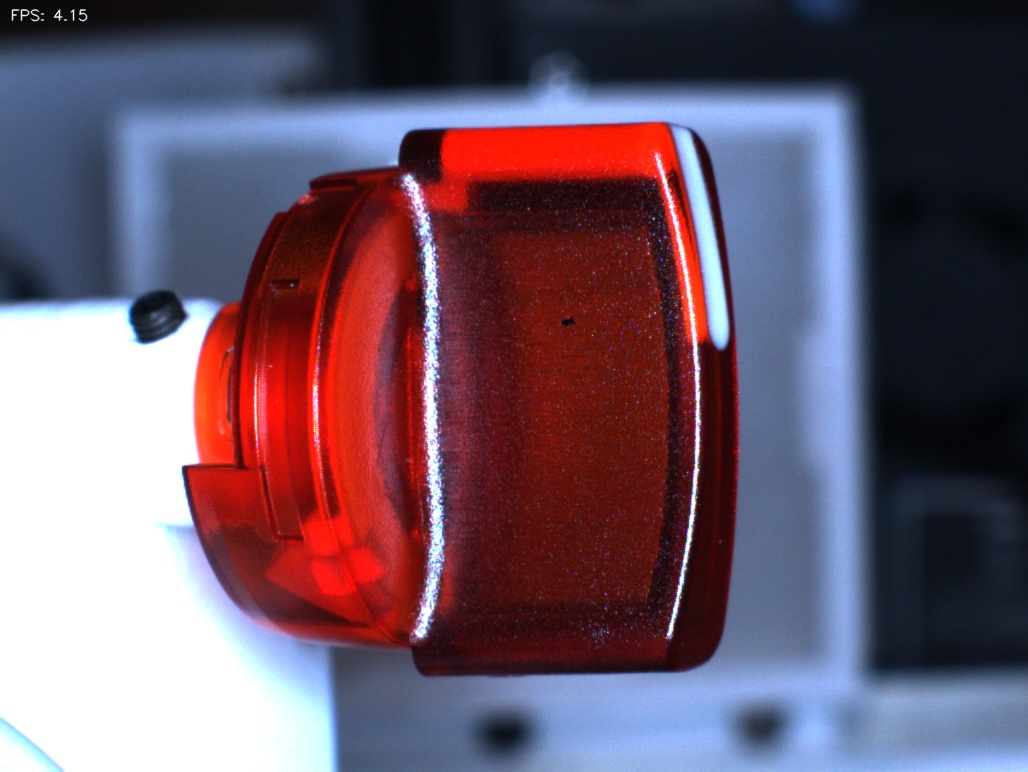PointNoir: (533, 291, 609, 367)
